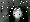person: (14, 7, 22, 20)
